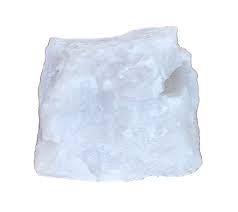obstacle: (35, 27, 201, 179)
